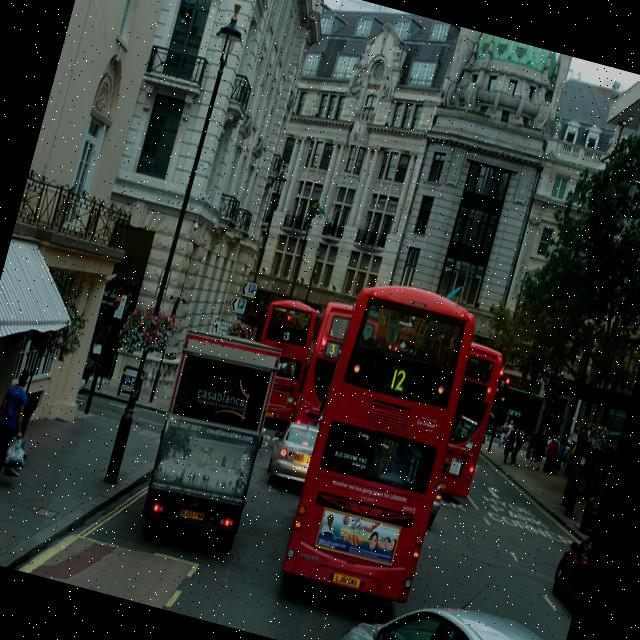fire_hydrant: (563, 472, 583, 516)
